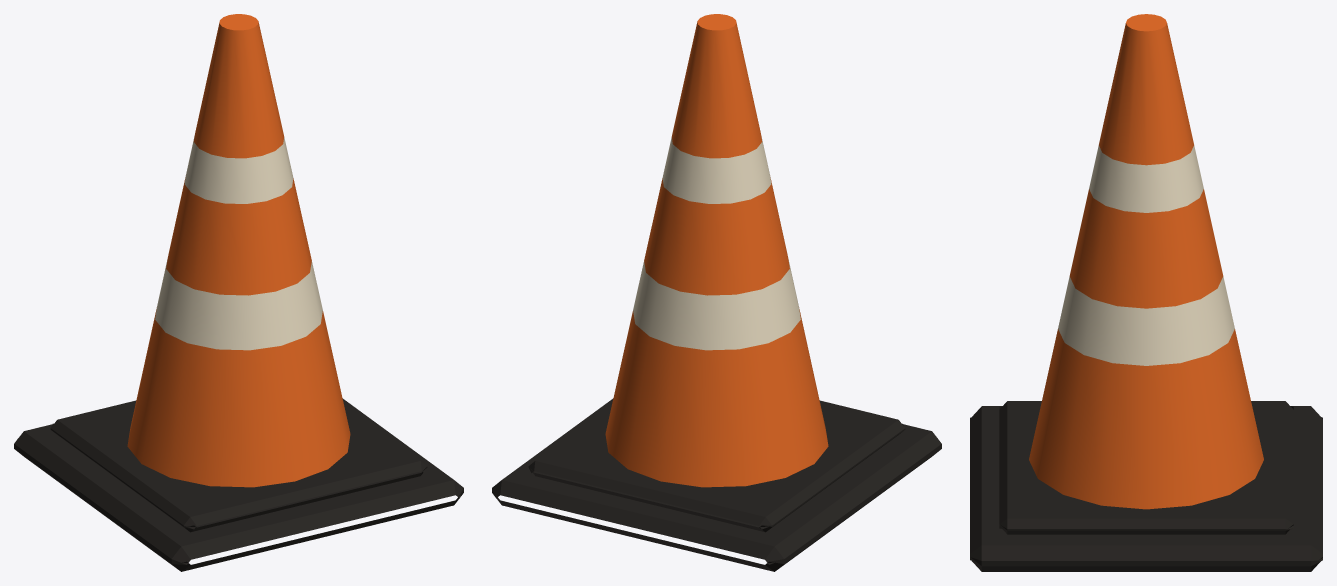
3 renders of one model, left to right at view 1: azimuth 30°, elevation 25°; view 2: azimuth 150°, elevation 25°; view 3: azimuth 270°, elevation 25°, orthographic. The views are drawn at different scales.
Parts seen in each view (by area): view 1: Cone; view 2: Cone; view 3: Cone.
Part boxes in pixels (x1,y1,x2,y2): Cone: (14, 14, 463, 571); Cone: (492, 14, 941, 571); Cone: (970, 14, 1322, 571).
Bounding box in the file's own units: 0.6 × 0.9 × 0.6.
